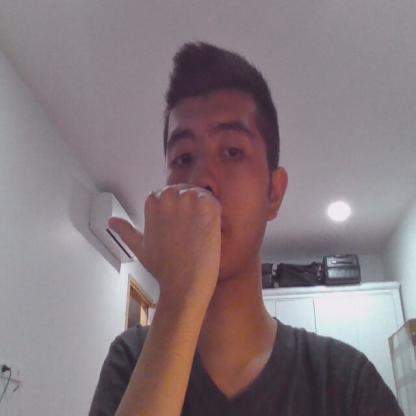right: (109, 186, 223, 290)
